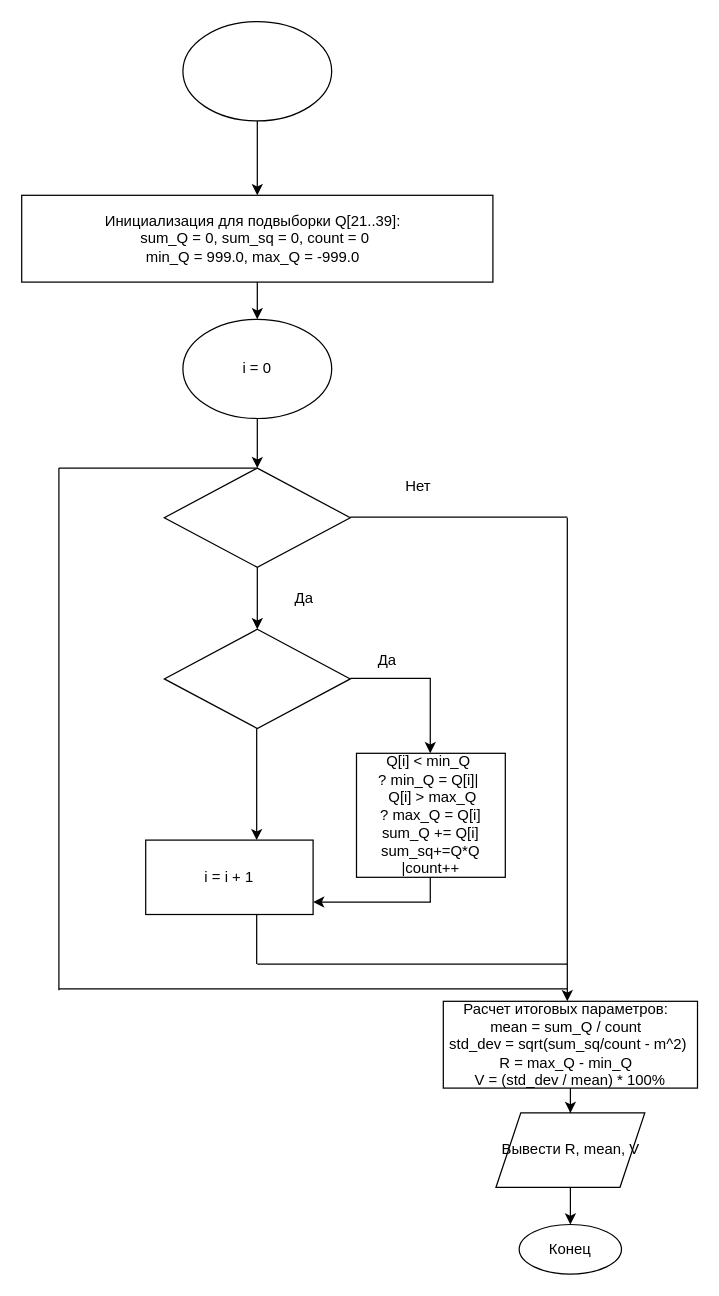
Some shapes in this 719 by 1296 pixel diagram are drawn without their labels. The centre of each missing label's shape, as x and y in pixels:
"i < 60?" belongs at point 256,517.
"i >= 20 и i<=38?" belongs at point 256,678.
"Начало" belongs at point 257,70.
